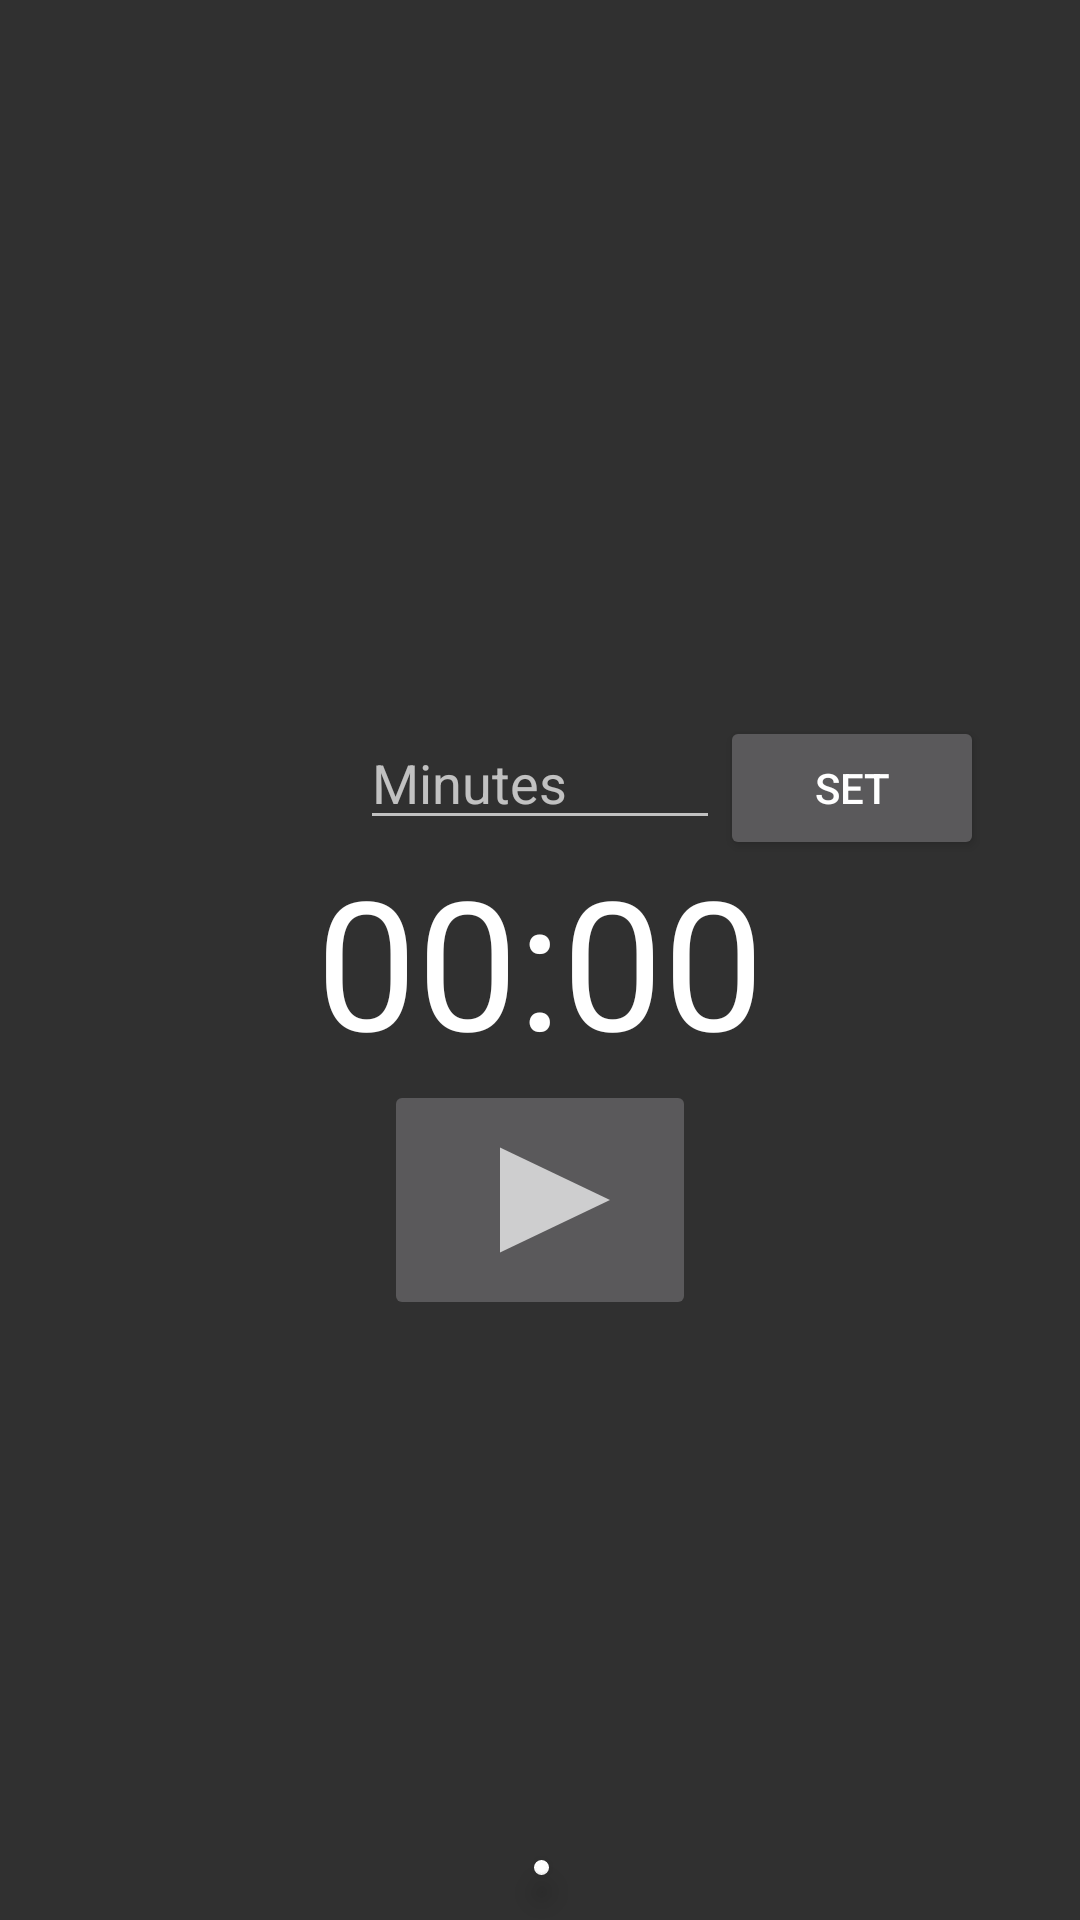

Named icons in this screenshot (1080px×1920px) and their centers, [x,y]:
play arrow: [540,1200]
